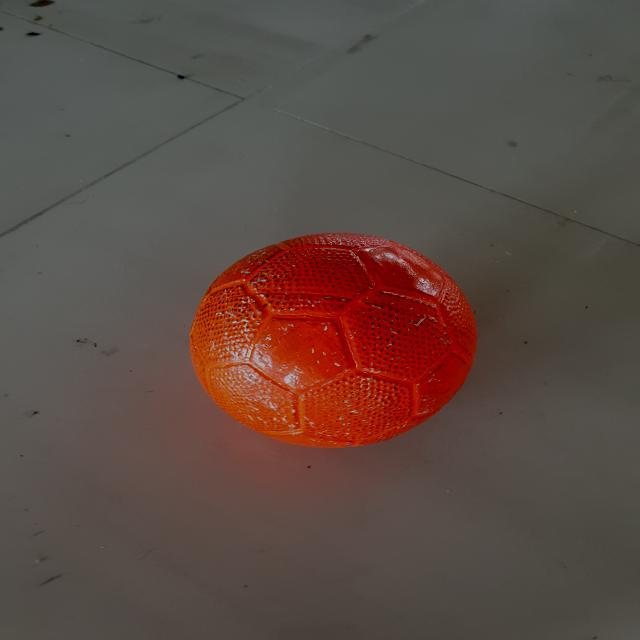bola: (178, 224, 486, 453)
